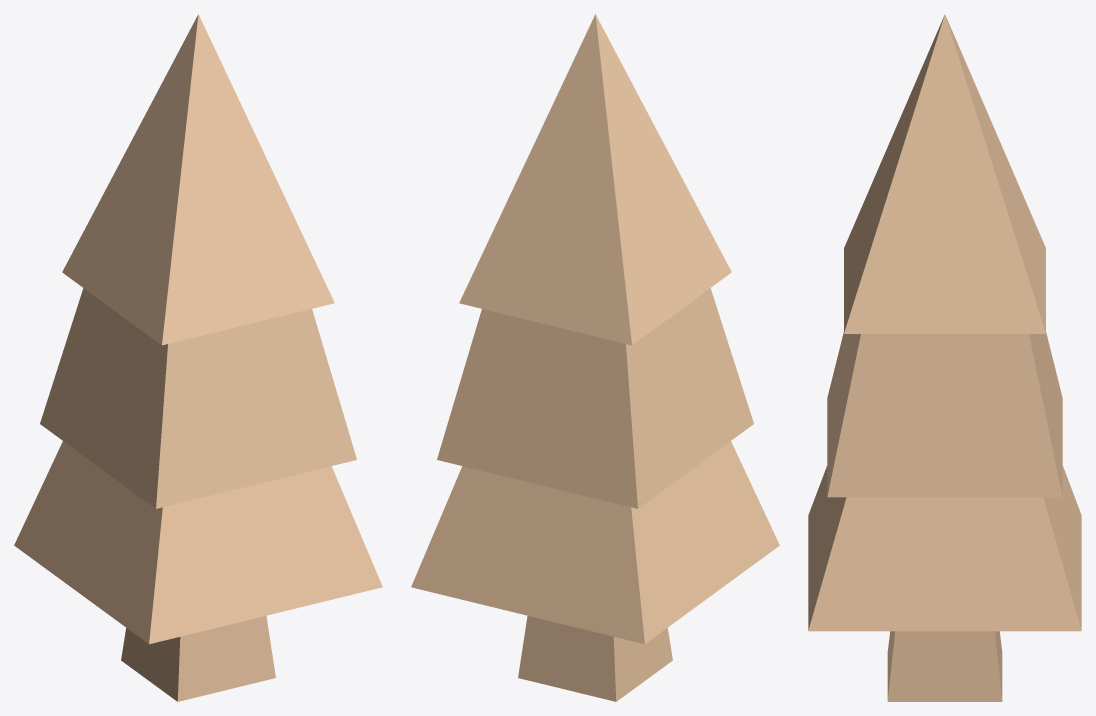
File: tree_pineSmall_square1.fbx
The picture shows the model from 3 angles, left to right: view 1: azimuth 30°, elevation 25°; view 2: azimuth 150°, elevation 25°; view 3: azimuth 270°, elevation 25°; orthographic projection.
Parts seen in each view (by area): view 1: tree_pineSmall_square1; view 2: tree_pineSmall_square1; view 3: tree_pineSmall_square1.
Part boxes in pixels (x1=…): tree_pineSmall_square1: x1=14, y1=14, x2=382, y2=701; tree_pineSmall_square1: x1=411, y1=14, x2=779, y2=701; tree_pineSmall_square1: x1=808, y1=14, x2=1081, y2=701.
Bounding box in the file's own units: 107 × 287 × 107.
